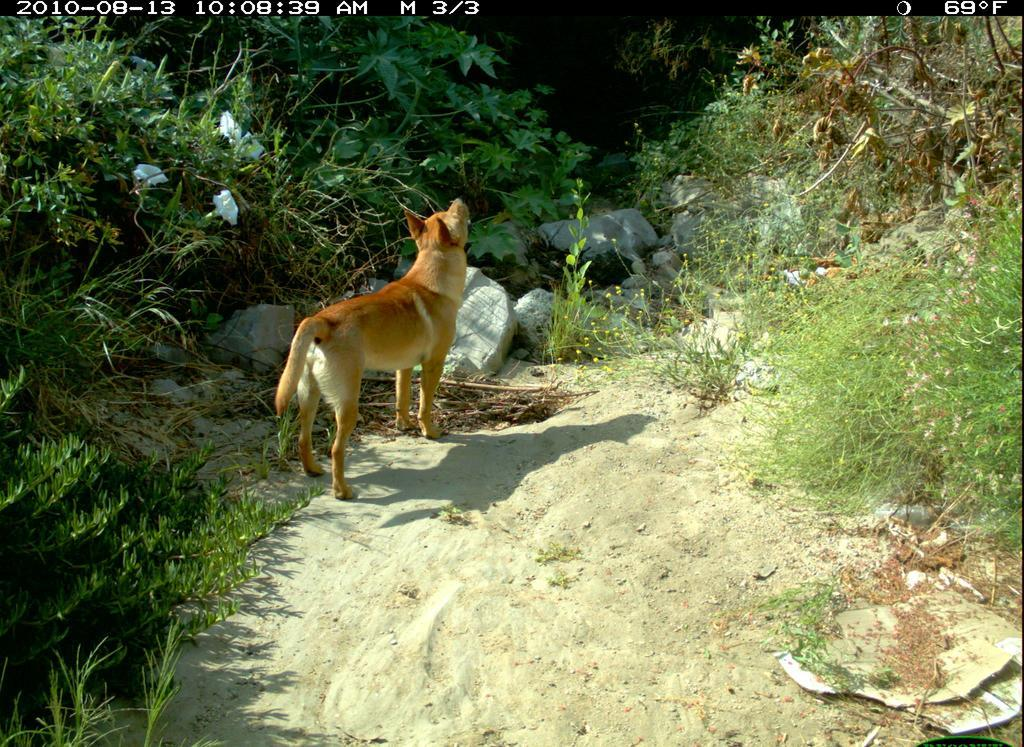dog: (242, 198, 483, 504)
